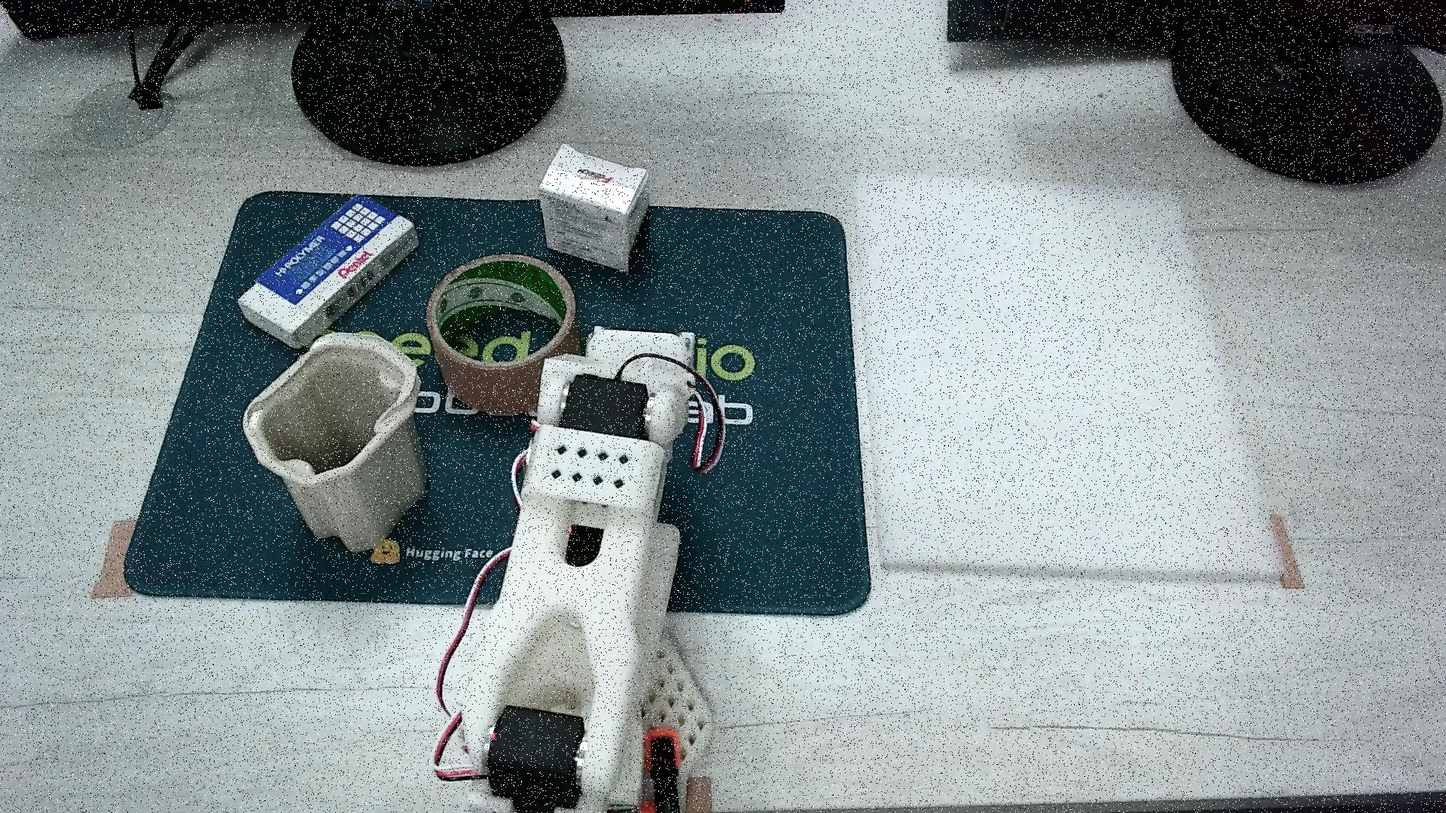eraser: (538, 144, 649, 271)
